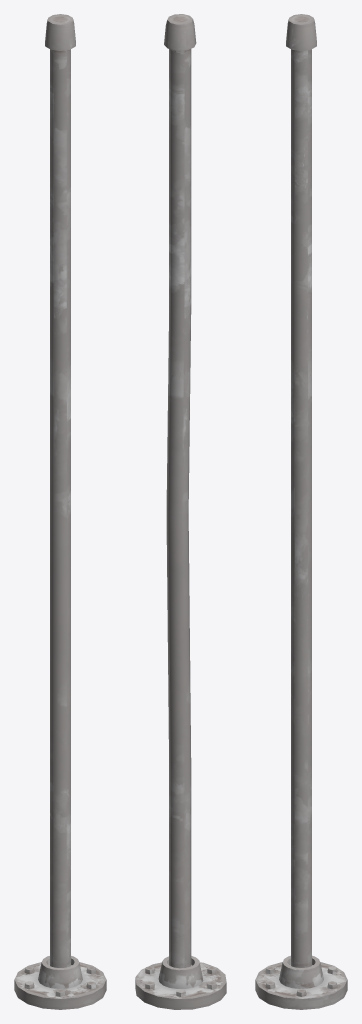
The model's file is SM_trafficsign_pole.fbx.
3 views of the same model, side by side, from view 1: azimuth 90°, elevation 25°; view 2: azimuth 150°, elevation 25°; view 3: azimuth 270°, elevation 25° (orthographic).
Visible parts, largest first — view 1: Object32307; view 2: Object32307; view 3: Object32307.
Part boxes in pixels (x1,y1,x2,y2): Object32307: (14, 14, 106, 1009); Object32307: (135, 14, 226, 1009); Object32307: (255, 14, 347, 1009).
Bounding box in the file's own units: 11.39 × 132 × 11.39.
